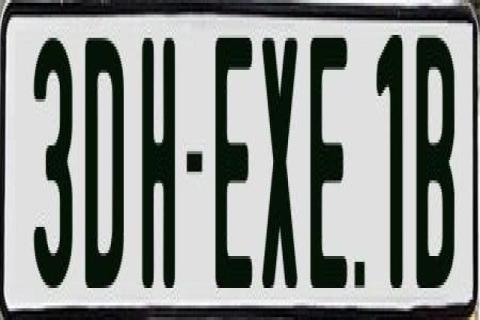0: (34, 38, 76, 306), (376, 32, 406, 294)
B: (416, 29, 457, 294)
D: (82, 29, 126, 279)
E: (308, 38, 351, 306), (214, 29, 252, 294)
H: (142, 32, 182, 296)
X: (259, 35, 294, 299)
